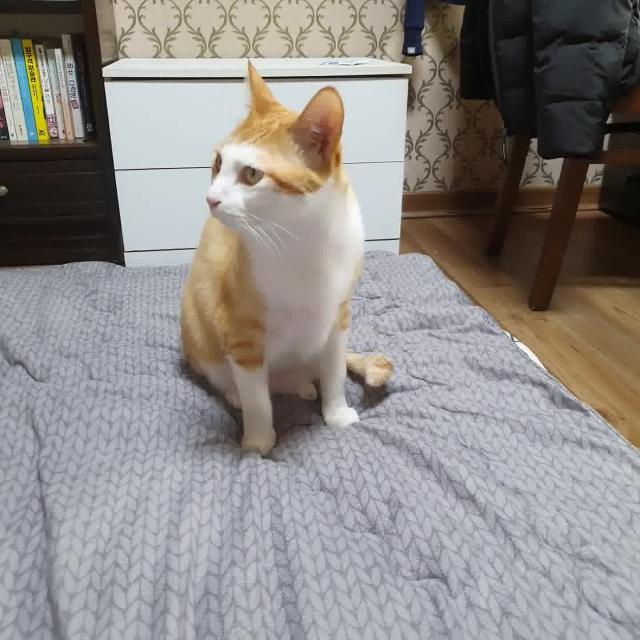cat: (171, 53, 398, 464)
